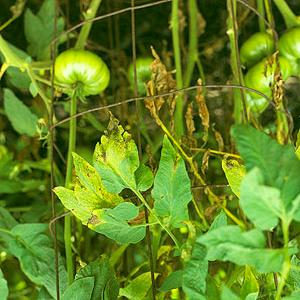Tomato Early blight leaf: (98, 114, 142, 195), (155, 136, 190, 232), (84, 205, 150, 239)
